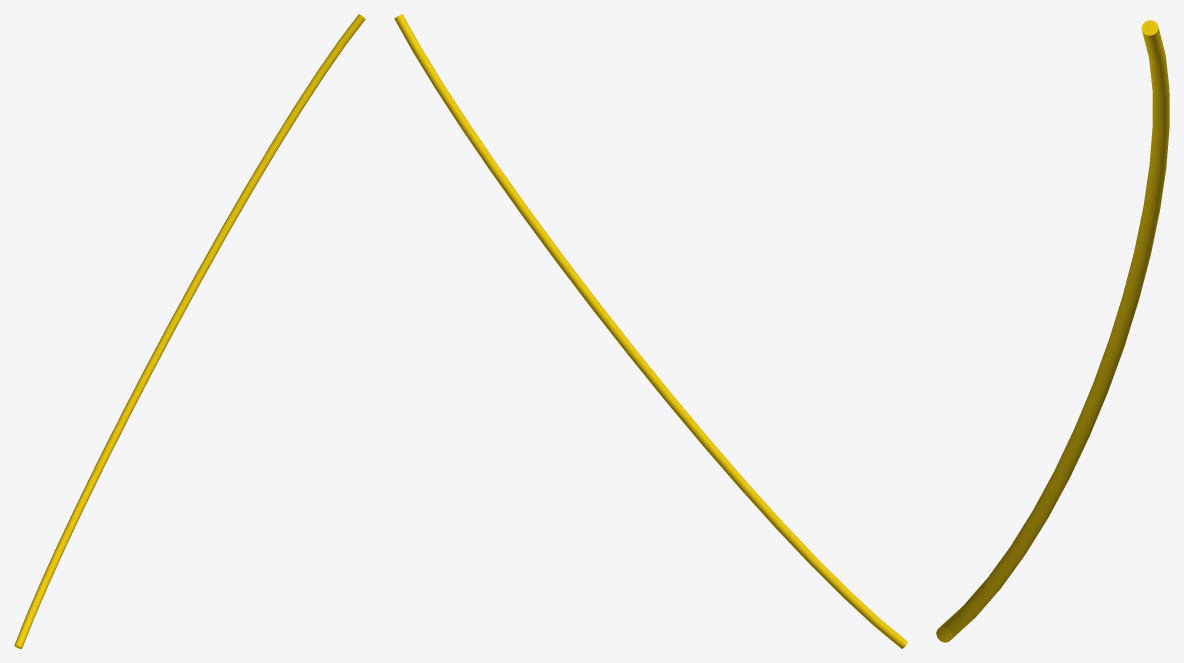
The model's file is Event_420107950_track_15.fbx.
3 renders of one model, left to right at view 1: azimuth 30°, elevation 25°; view 2: azimuth 150°, elevation 25°; view 3: azimuth 270°, elevation 25°, orthographic. The views are drawn at different scales.
Visible parts, largest first — view 1: Model; view 2: Model; view 3: Model.
Part boxes in pixels (x1,y1,x2,y2): Model: (14, 14, 365, 648); Model: (394, 14, 907, 648); Model: (936, 20, 1169, 642).
Bounding box in the file's own units: 2.18 × 2.6 × 0.5475.
